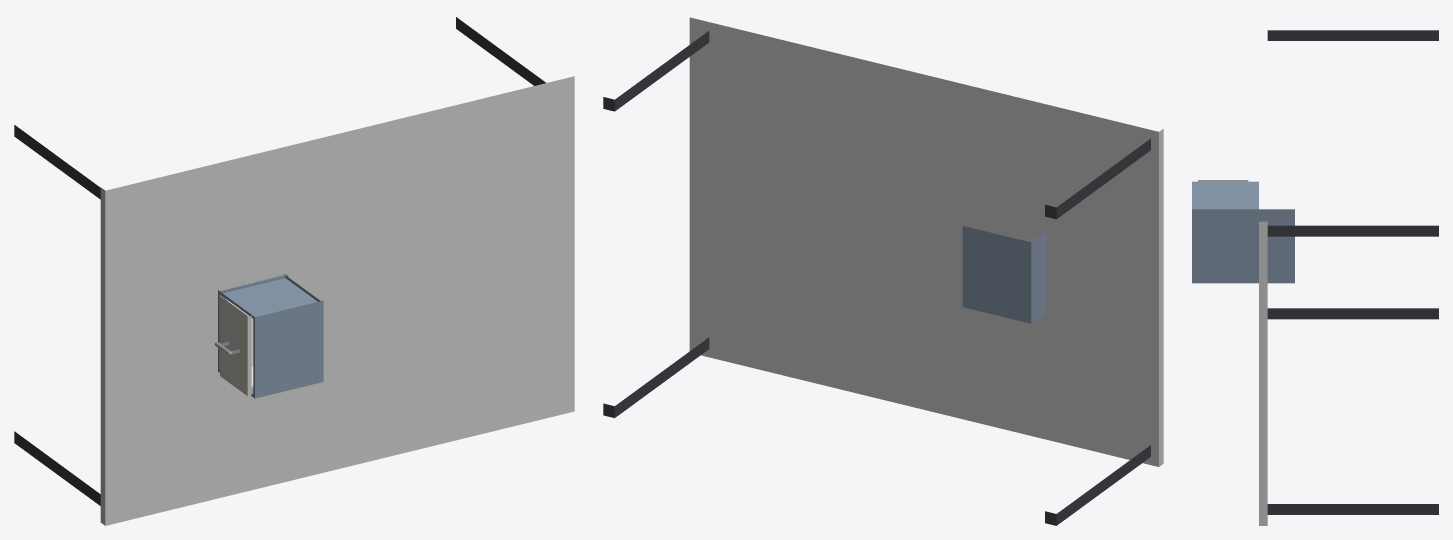
The picture shows the model from 3 angles, left to right: view 1: azimuth 30°, elevation 25°; view 2: azimuth 150°, elevation 25°; view 3: azimuth 270°, elevation 25°; orthographic projection. The views are drawn at different scales.
Visible parts, largest first — view 1: s0, s1, s2; view 2: s0, s1; view 3: s0, s1.
Part boxes in pixels (x1,y1,x2,y2): s0: [14, 17, 574, 525]; s1: [218, 274, 323, 398]; s2: [214, 297, 253, 396]; s0: [603, 17, 1163, 525]; s1: [962, 226, 1046, 323]; s0: [1259, 30, 1438, 525]; s1: [1192, 181, 1294, 283].
Bounding box in the file's own units: 2.05 × 1.4 × 1.03.
